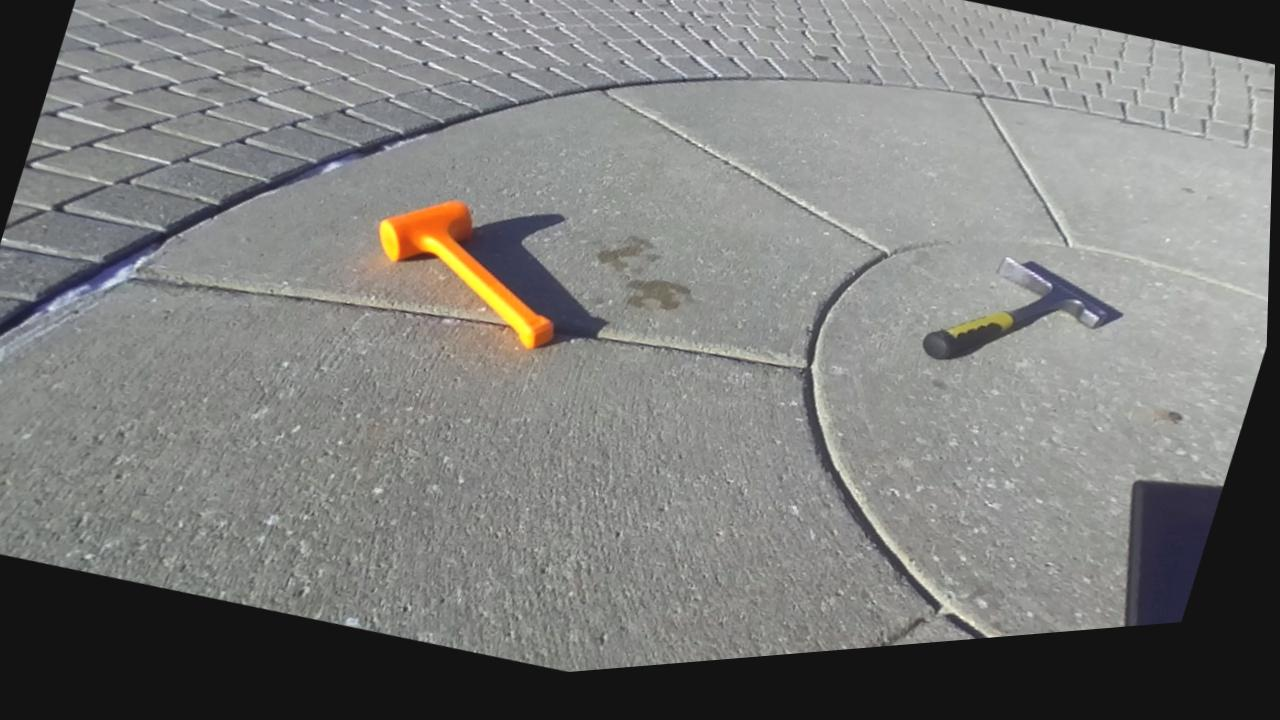mallet: (381, 202, 551, 346)
pick: (923, 258, 1121, 359)
